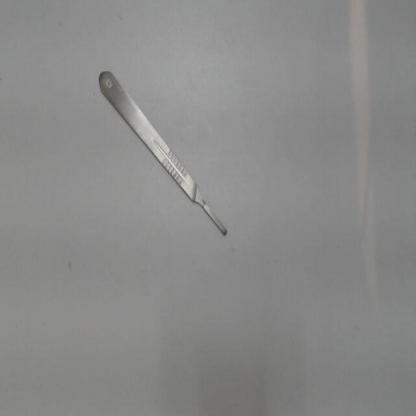No.4 BP Handle: (88, 50, 238, 253)
